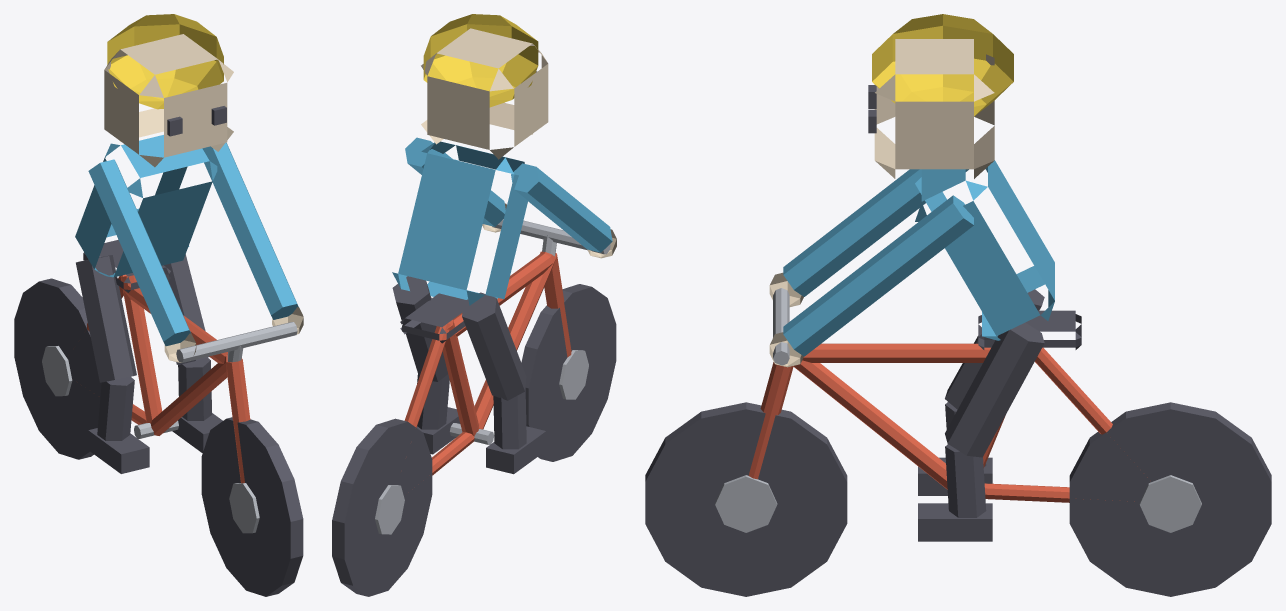
The model's file is cyclist.glb.
The picture shows the model from 3 angles, left to right: view 1: azimuth 30°, elevation 25°; view 2: azimuth 150°, elevation 25°; view 3: azimuth 270°, elevation 25°; orthographic projection. The views are drawn at different scales.
Parts seen in each view (by area): view 1: Body, Head, WheelF, WheelB, Frame, LegR, LegL; view 2: Body, Head, WheelB, WheelF, Frame, LegR, LegL; view 3: WheelB, WheelF, Body, Head, Frame, LegL, LegR.
Part boxes in pixels (bbox=[...]): Body: bbox=[75, 135, 303, 362]; Head: bbox=[104, 14, 233, 167]; WheelF: bbox=[201, 417, 303, 596]; WheelB: bbox=[14, 278, 101, 459]; Frame: bbox=[83, 239, 297, 483]; LegR: bbox=[76, 255, 149, 473]; LegL: bbox=[162, 254, 222, 452]; Body: bbox=[392, 137, 616, 305]; Head: bbox=[421, 14, 548, 159]; WheelB: bbox=[332, 418, 432, 596]; WheelF: bbox=[521, 284, 616, 461]; Frame: bbox=[400, 219, 610, 475]; LegR: bbox=[462, 292, 546, 474]; LegL: bbox=[392, 276, 460, 454]; WheelB: bbox=[1069, 402, 1271, 596]; WheelF: bbox=[645, 402, 847, 596]; Body: bbox=[769, 160, 1054, 367]; Head: bbox=[868, 14, 1013, 178]; Frame: bbox=[748, 288, 1150, 502]; LegL: bbox=[918, 322, 1044, 541]; LegR: bbox=[918, 289, 1044, 495].
Bounding box in the file's own units: 0.0815 × 0.2814 × 0.28.
